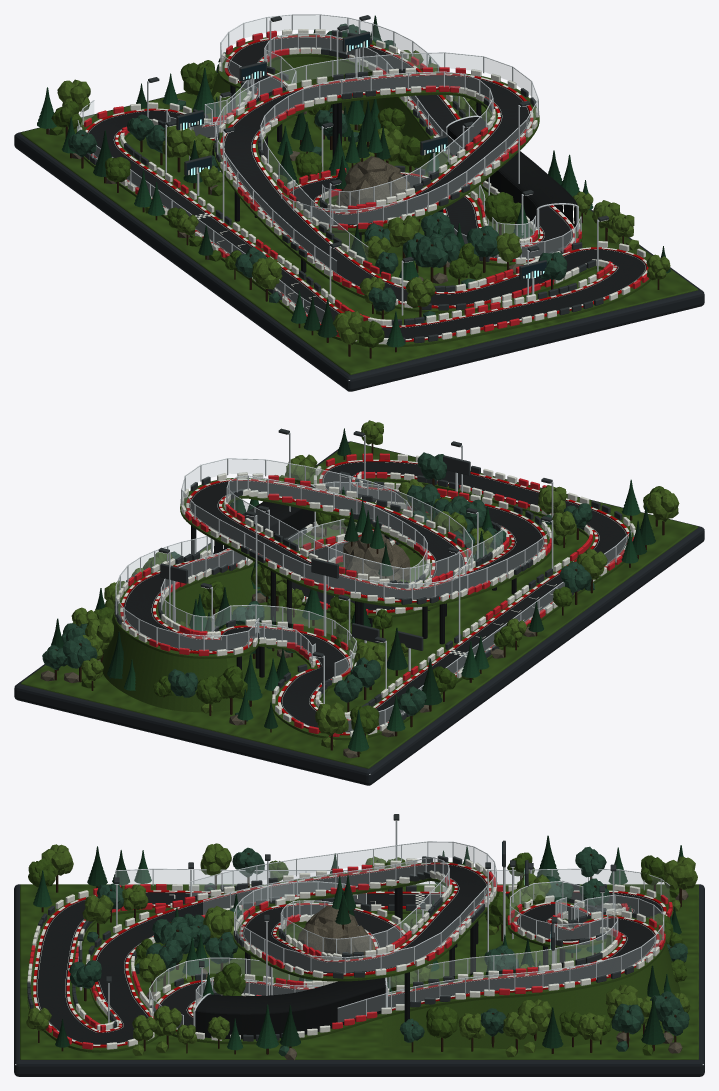
The model's file is Alpine_Circuit_Diorama.glb.
The picture shows the model from 3 angles, top to bottom: view 1: azimuth 30°, elevation 25°; view 2: azimuth 150°, elevation 25°; view 3: azimuth 270°, elevation 25°; orthographic projection. The views are drawn at different scales.
Parts seen in each view (by area): view 1: Continuous drivable asphalt deck, Inset landscape tray, Black rectangular display plinth, Alternating red white raised kerb -1, Trimmed grass verge -1, Trimmed grass verge 1, Alternating red white raised kerb 1, Upper sector sculpted grass embankment -1, Tunnel wall cap, Alpine tree 021, Alpine tree 018, Alpine tree 008 (+19 smaller); view 2: Continuous drivable asphalt deck, Inset landscape tray, Black rectangular display plinth, Upper sector sculpted grass embankment 1, Trimmed grass verge -1, Alternating red white raised kerb -1, Trimmed grass verge 1, Alternating red white raised kerb 1, Upper sector sculpted grass embankment -1, Alpine tree 085, Alpine tree 053, Alpine tree 051 (+16 smaller); view 3: Continuous drivable asphalt deck, Inset landscape tray, Black rectangular display plinth, Upper sector sculpted grass embankment 1, Trimmed grass verge 1, Alternating red white raised kerb -1, Alternating red white raised kerb 1, Tunnel wall cap.001, Trimmed grass verge -1, Alpine tree 085, Alpine tree 035, Alpine tree 058 (+60 smaller).
Boxes of the visible parts, left/top/right/bottom form: Continuous drivable asphalt deck: left=88, top=37, right=646, bottom=341; Inset landscape tray: left=20, top=88, right=698, bottom=374; Black rectangular display plinth: left=14, top=92, right=704, bottom=391; Alternating red white raised kerb -1: left=115, top=49, right=617, bottom=327; Trimmed grass verge -1: left=118, top=52, right=610, bottom=325; Trimmed grass verge 1: left=82, top=34, right=651, bottom=347; Alternating red white raised kerb 1: left=85, top=35, right=648, bottom=341; Upper sector sculpted grass embankment -1: left=268, top=56, right=447, bottom=175; Tunnel wall cap: left=447, top=127, right=539, bottom=232; Alpine tree 021: left=415, top=237, right=448, bottom=282; Alpine tree 018: left=484, top=192, right=515, bottom=235; Alpine tree 008: left=466, top=225, right=499, bottom=272; Continuous drivable asphalt deck: left=123, top=461, right=627, bottom=735; Inset landscape tray: left=20, top=441, right=698, bottom=768; Black rectangular display plinth: left=14, top=441, right=704, bottom=785; Upper sector sculpted grass embankment 1: left=102, top=601, right=229, bottom=712; Trimmed grass verge -1: left=156, top=476, right=595, bottom=707; Alternating red white raised kerb -1: left=153, top=473, right=598, bottom=720; Trimmed grass verge 1: left=114, top=458, right=633, bottom=740; Alternating red white raised kerb 1: left=120, top=459, right=629, bottom=735; Upper sector sculpted grass embankment -1: left=162, top=566, right=260, bottom=625; Alpine tree 085: left=315, top=702, right=348, bottom=750; Alpine tree 053: left=215, top=665, right=247, bottom=714; Alpine tree 051: left=62, top=635, right=97, bottom=682; Continuous drivable asphalt deck: left=36, top=864, right=663, bottom=1047; Inset landscape tray: left=20, top=884, right=698, bottom=1059; Black rectangular display plinth: left=14, top=884, right=704, bottom=1076; Upper sector sculpted grass embankment 1: left=382, top=943, right=680, bottom=1049; Trimmed grass verge 1: left=27, top=878, right=672, bottom=1052; Alternating red white raised kerb -1: left=66, top=862, right=632, bottom=1032; Alternating red white raised kerb 1: left=33, top=878, right=666, bottom=1047; Tunnel wall cap.001: left=195, top=987, right=385, bottom=1039; Trimmed grass verge -1: left=69, top=862, right=628, bottom=1028; Alpine tree 085: left=663, top=856, right=697, bottom=906; Alpine tree 035: left=426, top=1006, right=458, bottom=1051; Alpine tree 058: left=517, top=999, right=551, bottom=1040.
Size of the model in its own units: 2.67 by 1.02 by 4.35.
20 materials, 12 textured.
